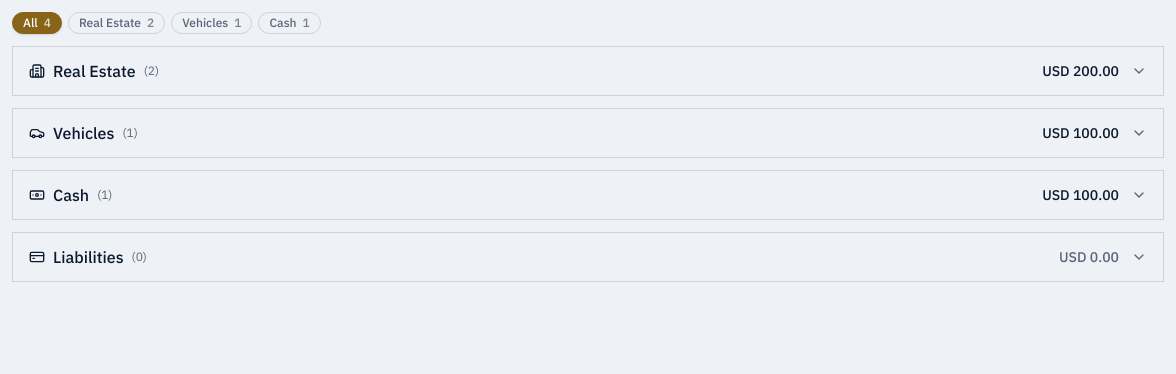
it: PortfolioGroups category pills › filters the folders to the chosen category, opens it, and All restores them
Expected: the text "Villa" is not shown
Click the button "Real Estate 2".
click(117, 23)  # box [68,12,165,34]
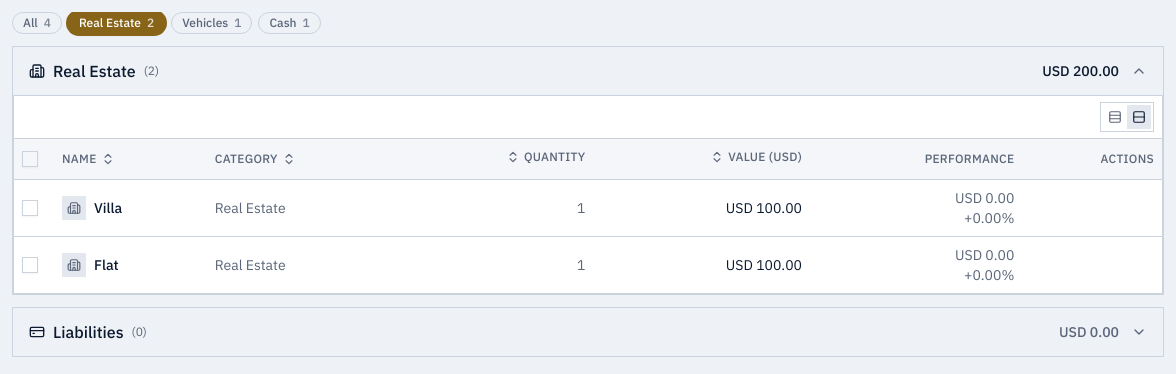
Result: the link "Villa" is shown at [62,196,122,220]
Click the button "All 4".
click(37, 23)  # box [12,12,62,34]
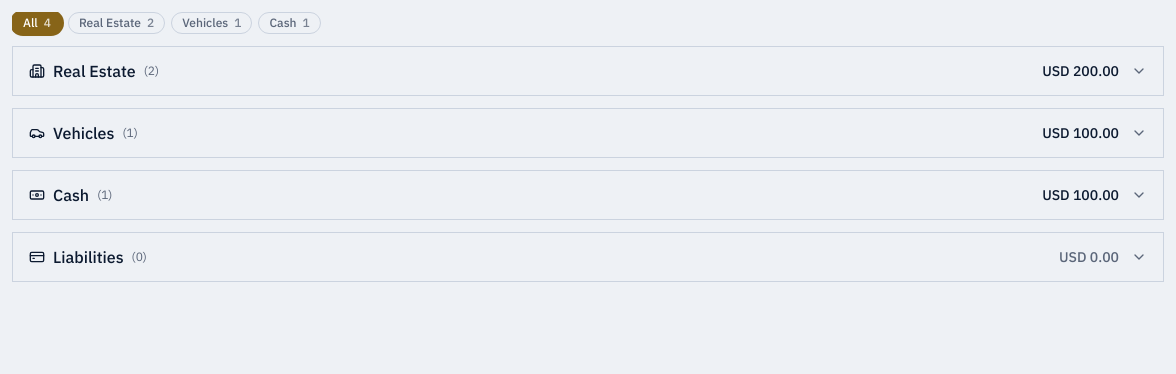
Result: the link "Villa" is gone
